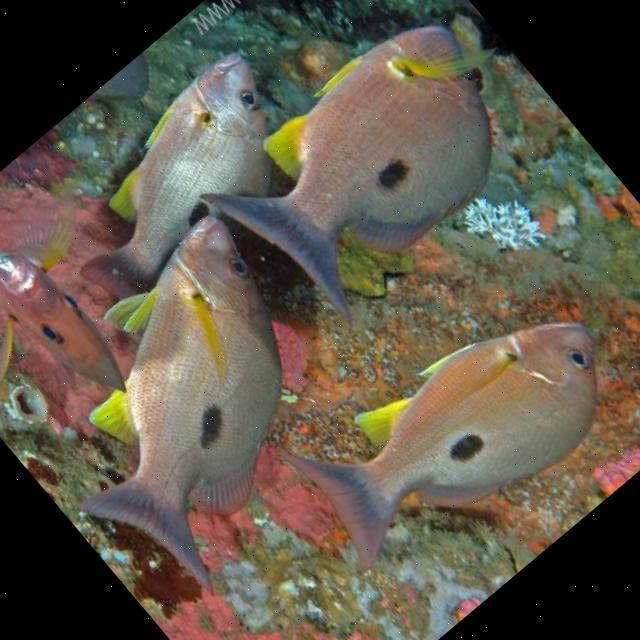ikan: (0, 207, 405, 627), (266, 246, 640, 607), (192, 0, 567, 348)
